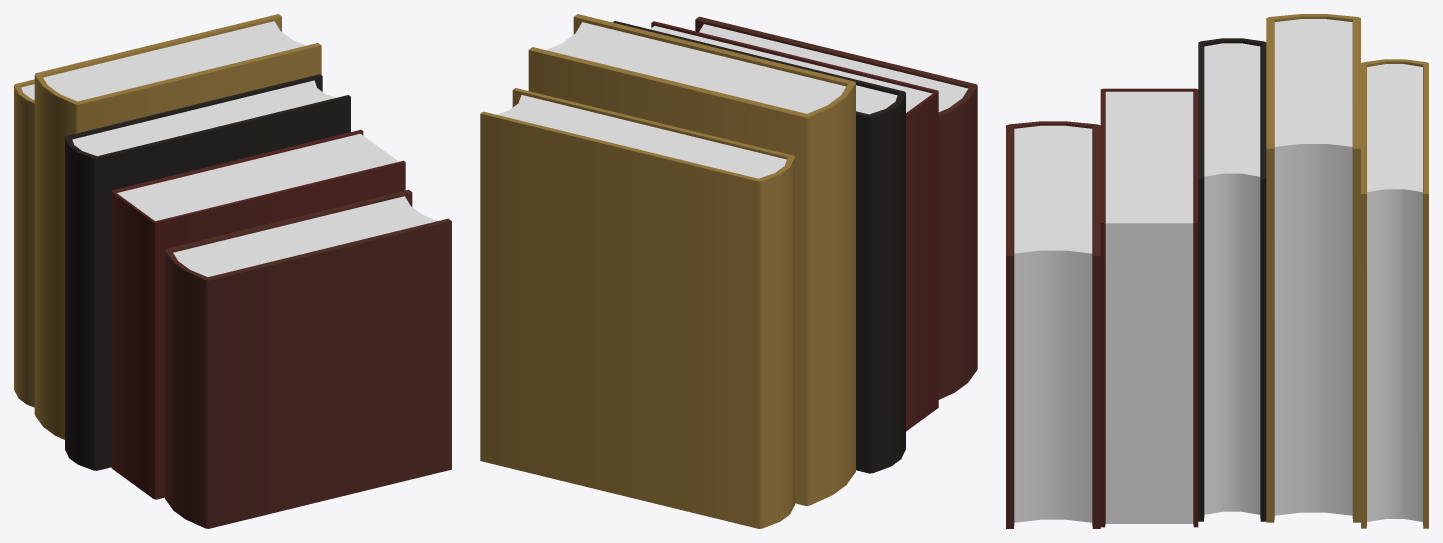
Rendered from 074_books_var1.glb.
3 renders of one model, left to right at view 1: azimuth 30°, elevation 25°; view 2: azimuth 150°, elevation 25°; view 3: azimuth 270°, elevation 25°, orthographic. The views are drawn at different scales.
Parts seen in each view (by area): view 1: Plane.002, Plane.001, Plane.006, Plane.003, Plane.005; view 2: Plane.005, Plane.003, Plane.006, Plane.002, Plane.001; view 3: Plane.003, Plane.001, Plane.002, Plane.006, Plane.005.
Part boxes in pixels (x1,y1,x2,y2): Plane.002: (165,189,451,528); Plane.001: (111,129,405,499); Plane.006: (65,74,350,470); Plane.003: (34,14,321,439); Plane.005: (14,79,34,407); Plane.005: (480,88,794,528); Plane.003: (528,14,855,505); Plane.006: (613,21,905,473); Plane.002: (695,16,977,399); Plane.001: (650,21,938,431); Plane.003: (1266,14,1360,522); Plane.001: (1100,88,1198,527); Plane.002: (1006,121,1100,528); Plane.006: (1198,38,1266,521); Plane.005: (1361,59,1428,528).
Size of the model in its own units: 0.6075 by 0.7171 by 0.735.
